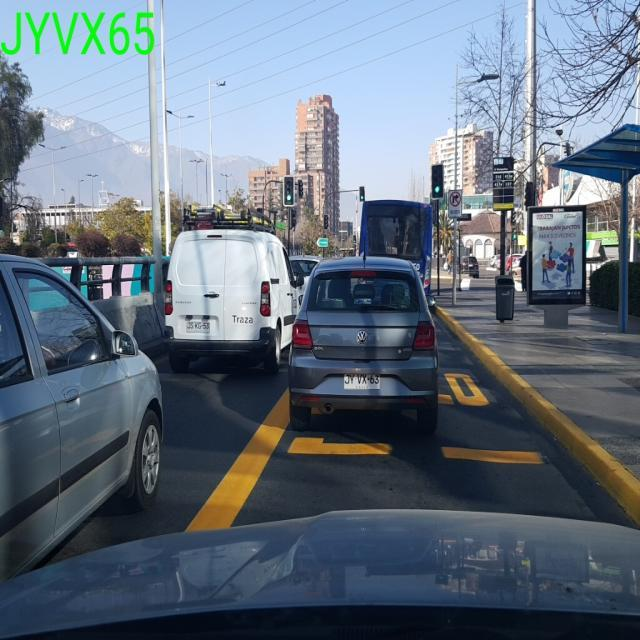Ad-signs: (526, 205, 586, 305)
Bus: (357, 199, 433, 308)
Car: (0, 251, 164, 582), (286, 254, 439, 433)
MiniBus: (161, 211, 301, 374)
Traffic-light: (430, 163, 443, 198), (282, 175, 294, 206), (358, 185, 364, 201)
